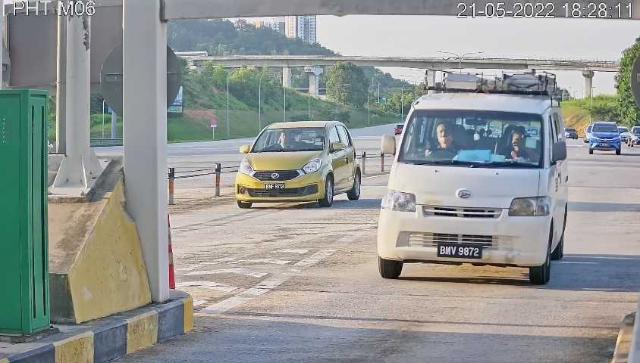License_Plate: (437, 243, 485, 262)
van: (379, 72, 570, 286)
